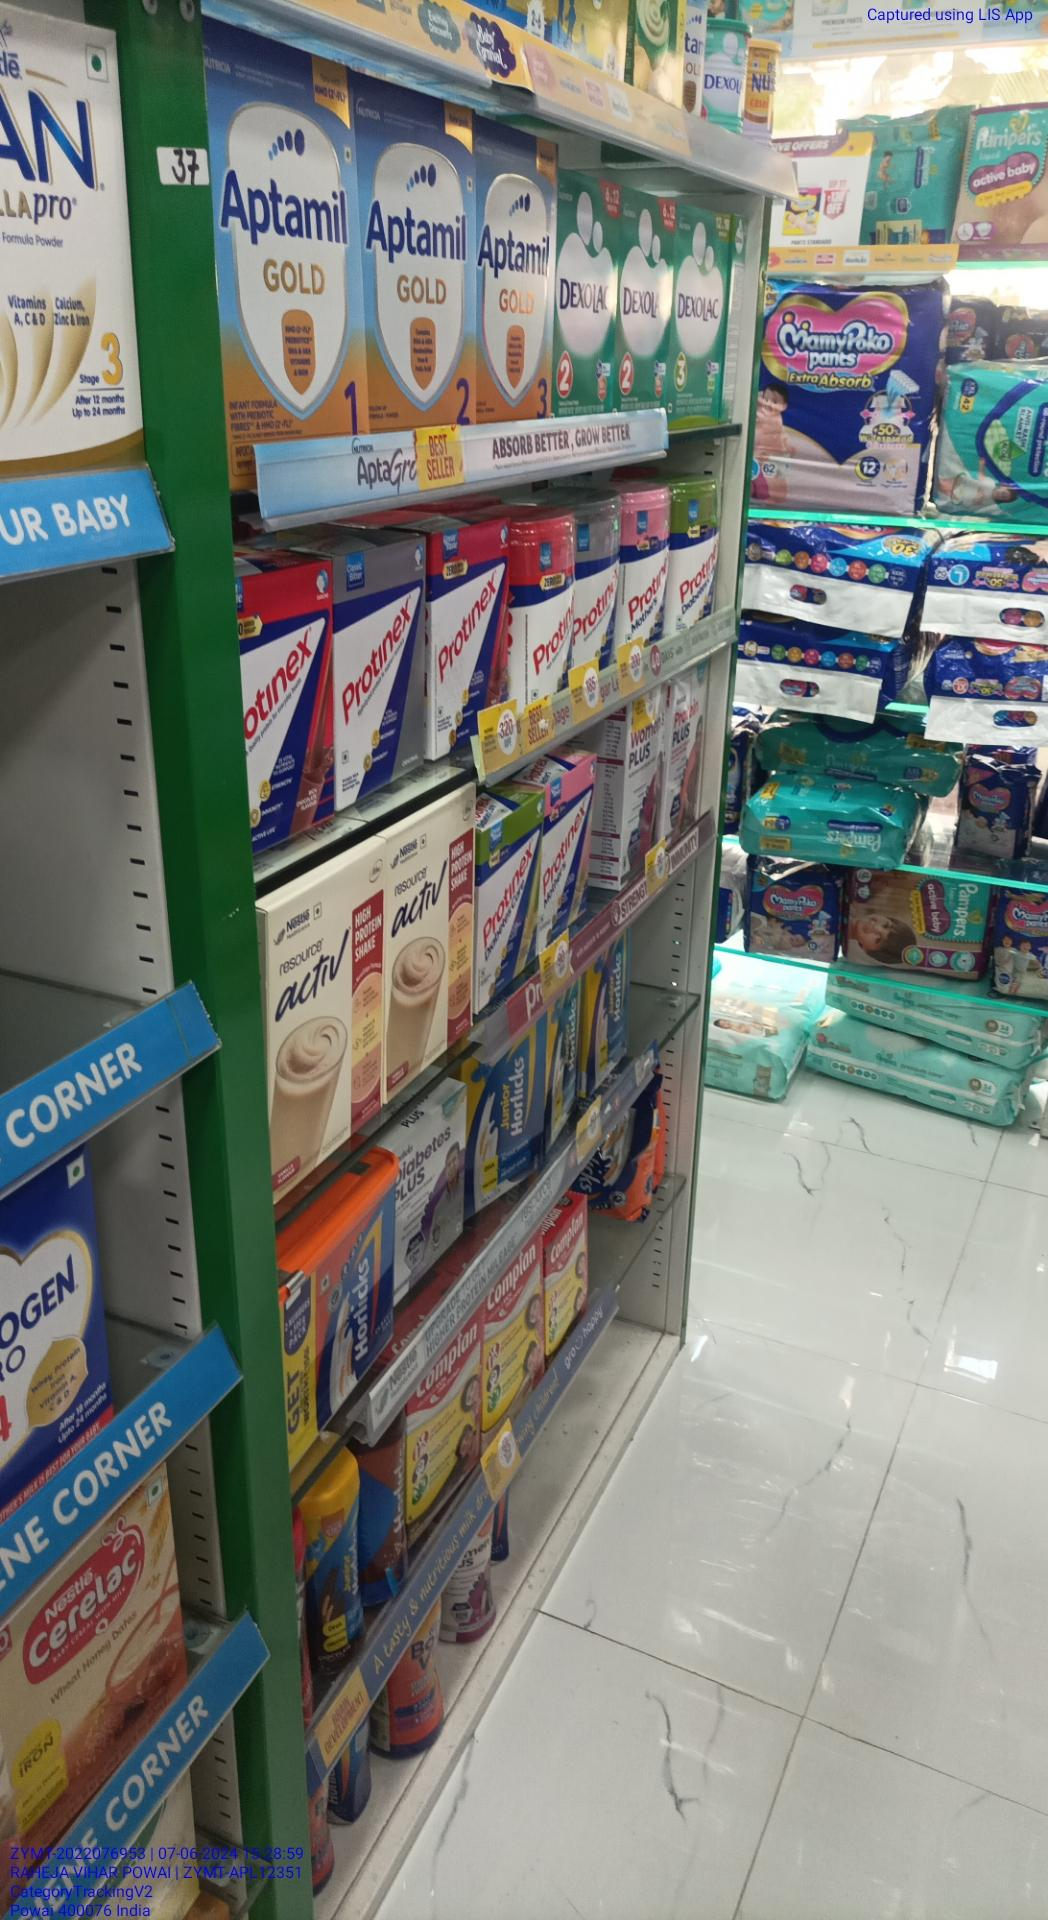HORLICK_CLASSIC_MALT_500_G_PACK: (470, 1057, 545, 1196)
PROTINEX_CHOCOLATE_400_G_JAR: (518, 523, 565, 695)
PROTINEX_ORIGINAL_400_G_JAR: (569, 499, 626, 671)
